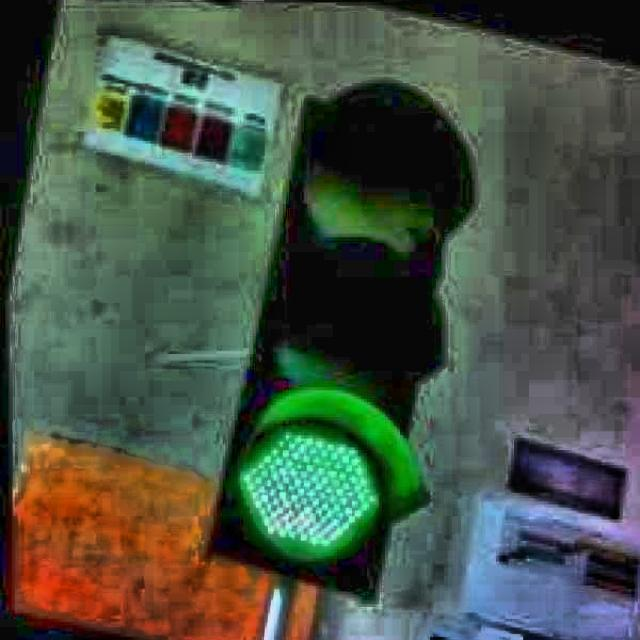green: (215, 88, 468, 602)
